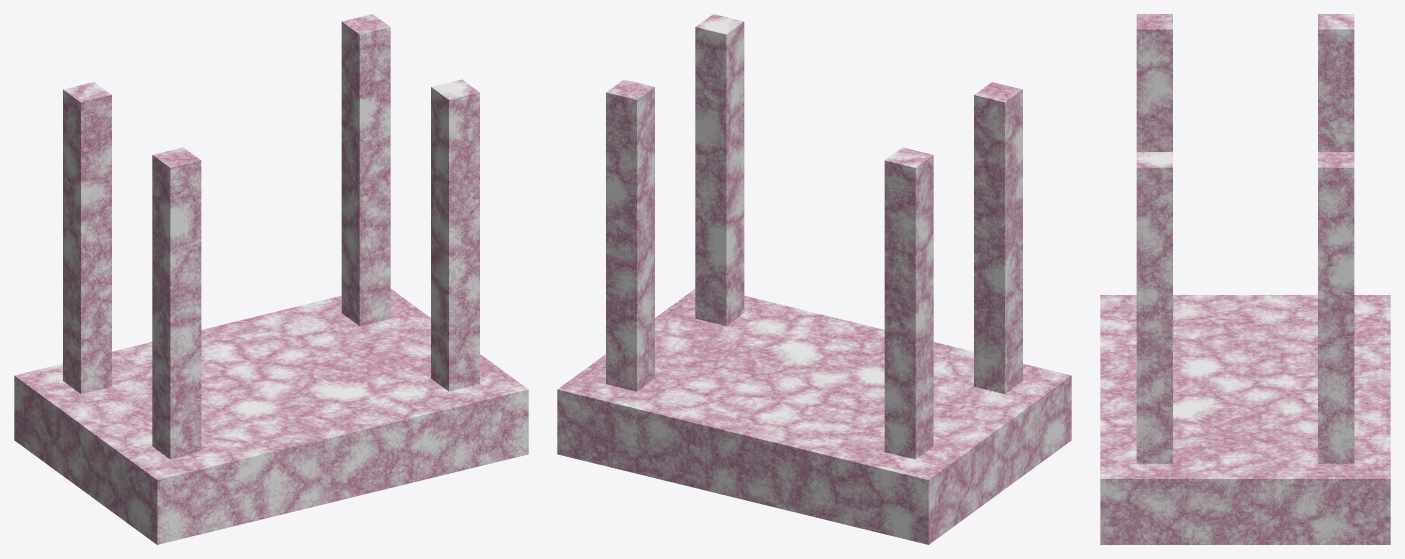
The model's file is temple.gltf.
3 views of the same model, side by side, from view 1: azimuth 30°, elevation 25°; view 2: azimuth 150°, elevation 25°; view 3: azimuth 270°, elevation 25° (orthographic).
Visible parts, largest first — view 1: Cube; view 2: Cube; view 3: Cube.
Part boxes in pixels (x1,y1,x2,y2): Cube: [14, 14, 528, 544]; Cube: [557, 14, 1071, 544]; Cube: [1100, 14, 1390, 544].
Size of the model in its own units: 12 by 11 by 8.
Materials: 1 (1 with a texture image).
